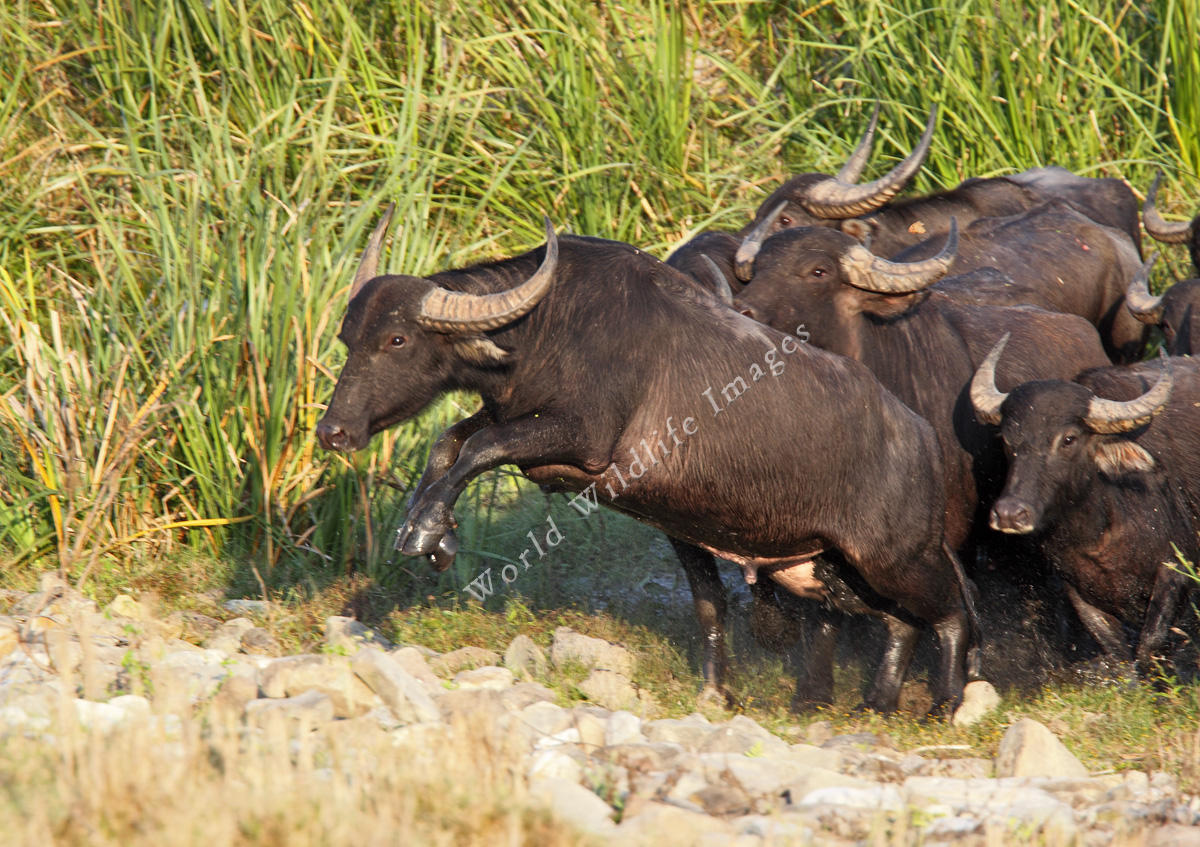buffalo: (319, 206, 973, 719), (717, 206, 1130, 602), (696, 115, 1151, 368), (966, 315, 1200, 691)
